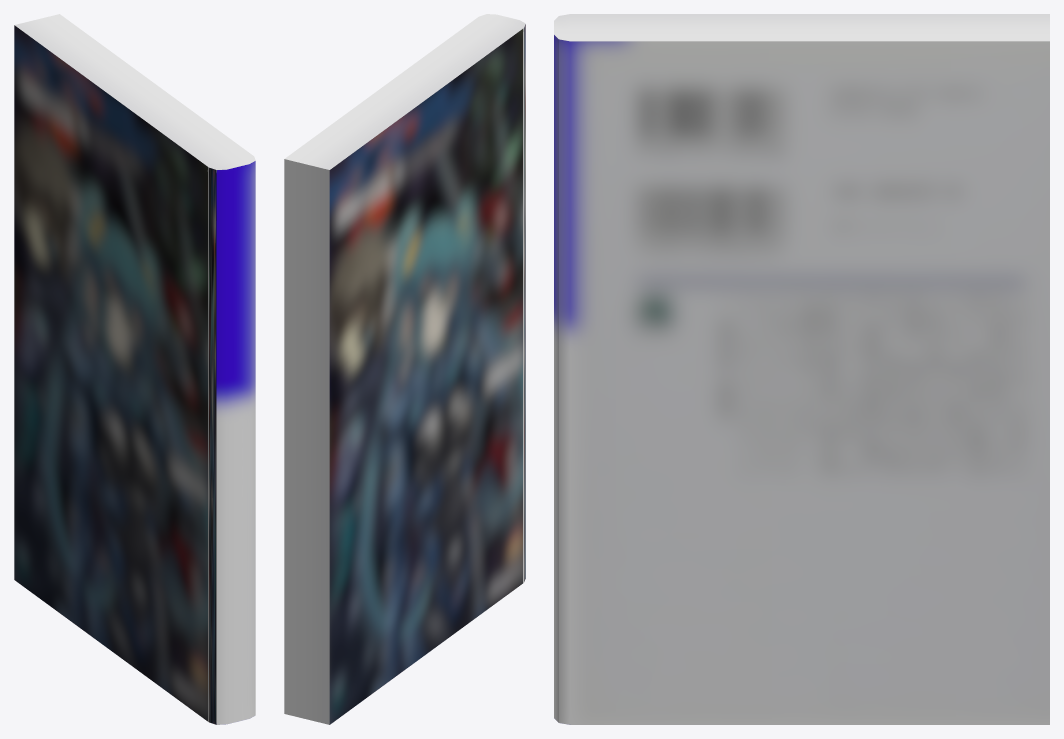
File: Muv5.fbx
The picture shows the model from 3 angles, left to right: view 1: azimuth 30°, elevation 25°; view 2: azimuth 150°, elevation 25°; view 3: azimuth 270°, elevation 25°; orthographic projection. The views are drawn at different scales.
Parts seen in each view (by area): view 1: Muv5; view 2: Muv5; view 3: Muv5.
Part boxes in pixels (x1,y1,x2,y2): Muv5: (14, 14, 255, 724); Muv5: (284, 14, 525, 724); Muv5: (554, 14, 1049, 724).
Size of the model in its own units: 1.5 by 17.5 by 11.5.
